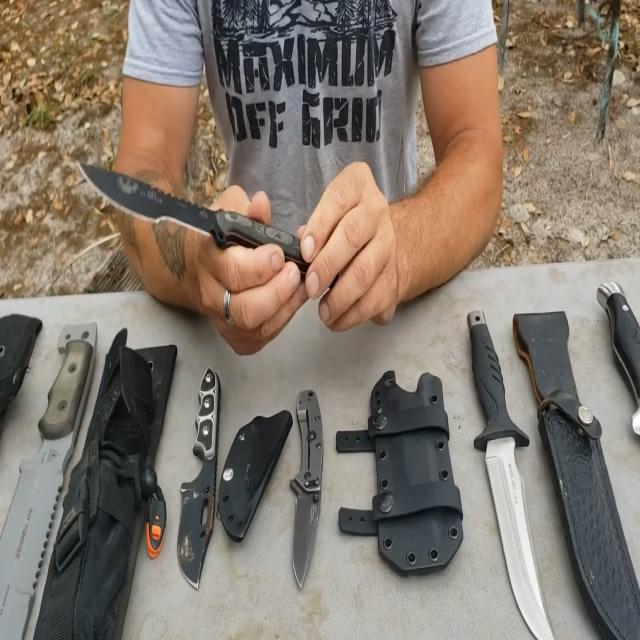knife: (443, 290, 566, 632), (0, 302, 105, 636), (85, 142, 320, 290), (170, 358, 236, 582), (278, 370, 337, 600)
